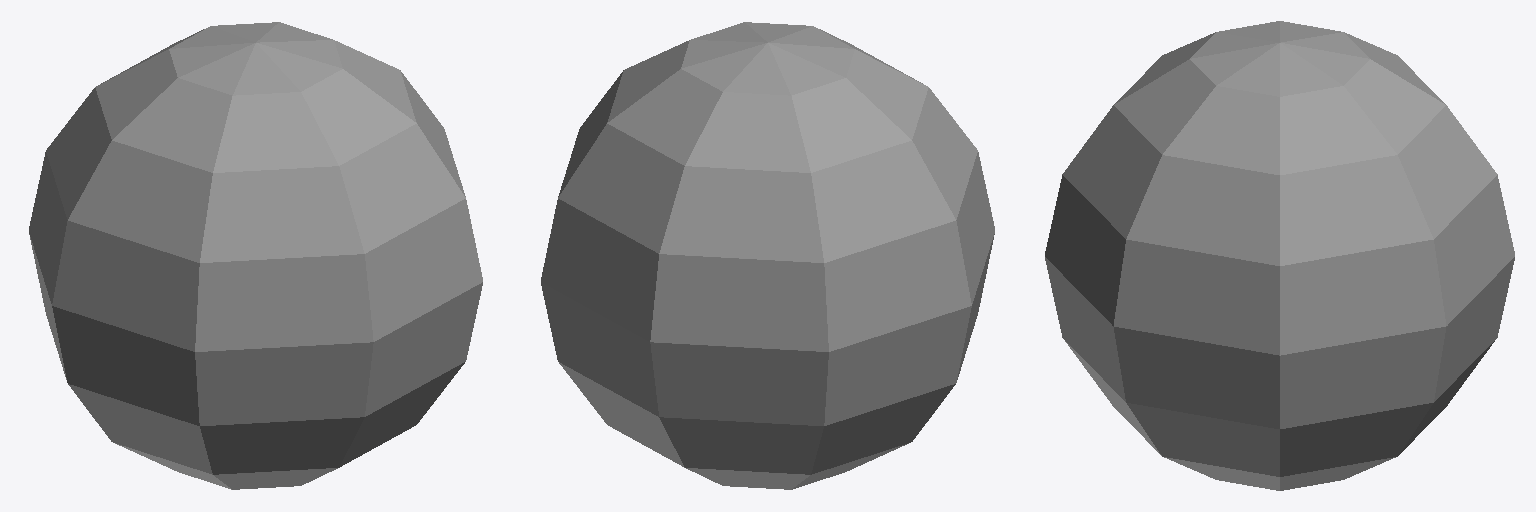
File: sky.obj
3 renders of one model, left to right at view 1: azimuth 30°, elevation 25°; view 2: azimuth 150°, elevation 25°; view 3: azimuth 270°, elevation 25°, orthographic.
Size of the model in its own units: 24 by 23.99 by 24.